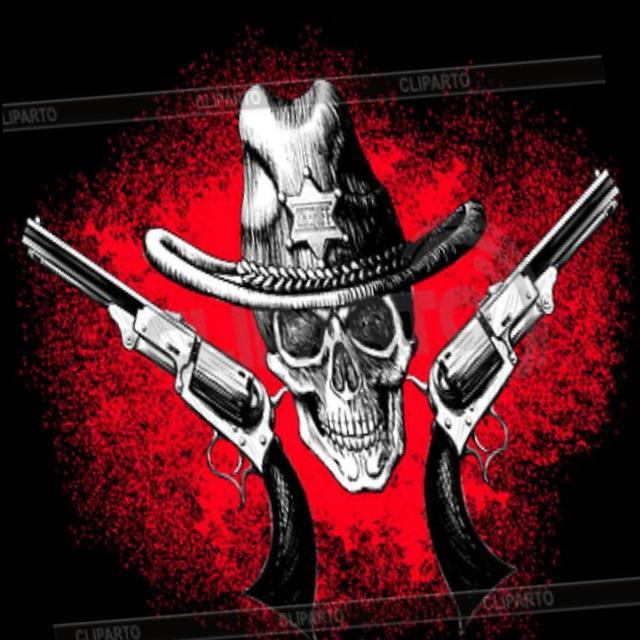weapon: (14, 178, 329, 640), (370, 144, 640, 635)
